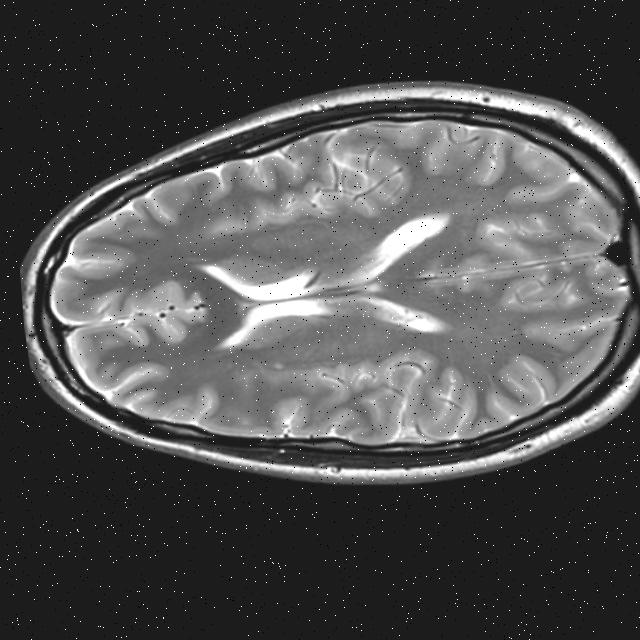NoTumor: (6, 50, 640, 525)
